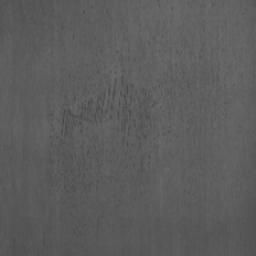Rolled pit: (59, 74, 153, 175)
